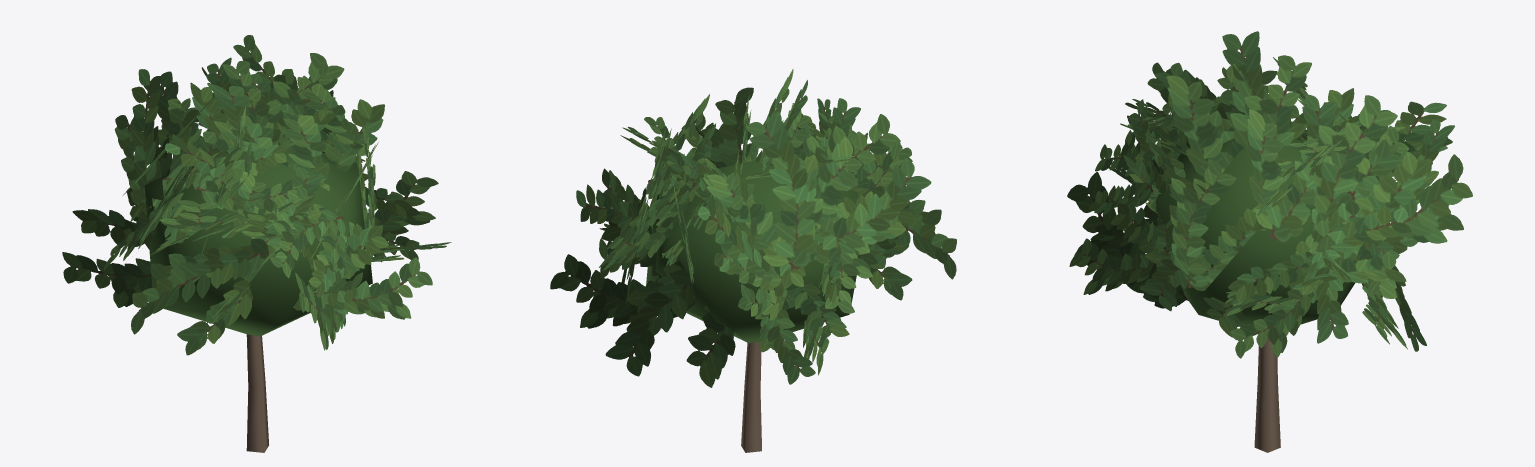
Rendered from QUERCUS_2.glb.
The picture shows the model from 3 angles, left to right: view 1: azimuth 30°, elevation 25°; view 2: azimuth 150°, elevation 25°; view 3: azimuth 270°, elevation 25°; orthographic projection. The views are drawn at different scales.
Visible parts, largest first — view 1: Arv_QUERCUS_lod2; view 2: Arv_QUERCUS_lod2; view 3: Arv_QUERCUS_lod2.
Part boxes in pixels (x1,y1,x2,y2): Arv_QUERCUS_lod2: [62, 35, 451, 452]; Arv_QUERCUS_lod2: [550, 69, 956, 452]; Arv_QUERCUS_lod2: [1067, 31, 1472, 452].
Size of the model in its own units: 13.09 by 12.56 by 13.33.
Materials: 3 (1 with a texture image).
